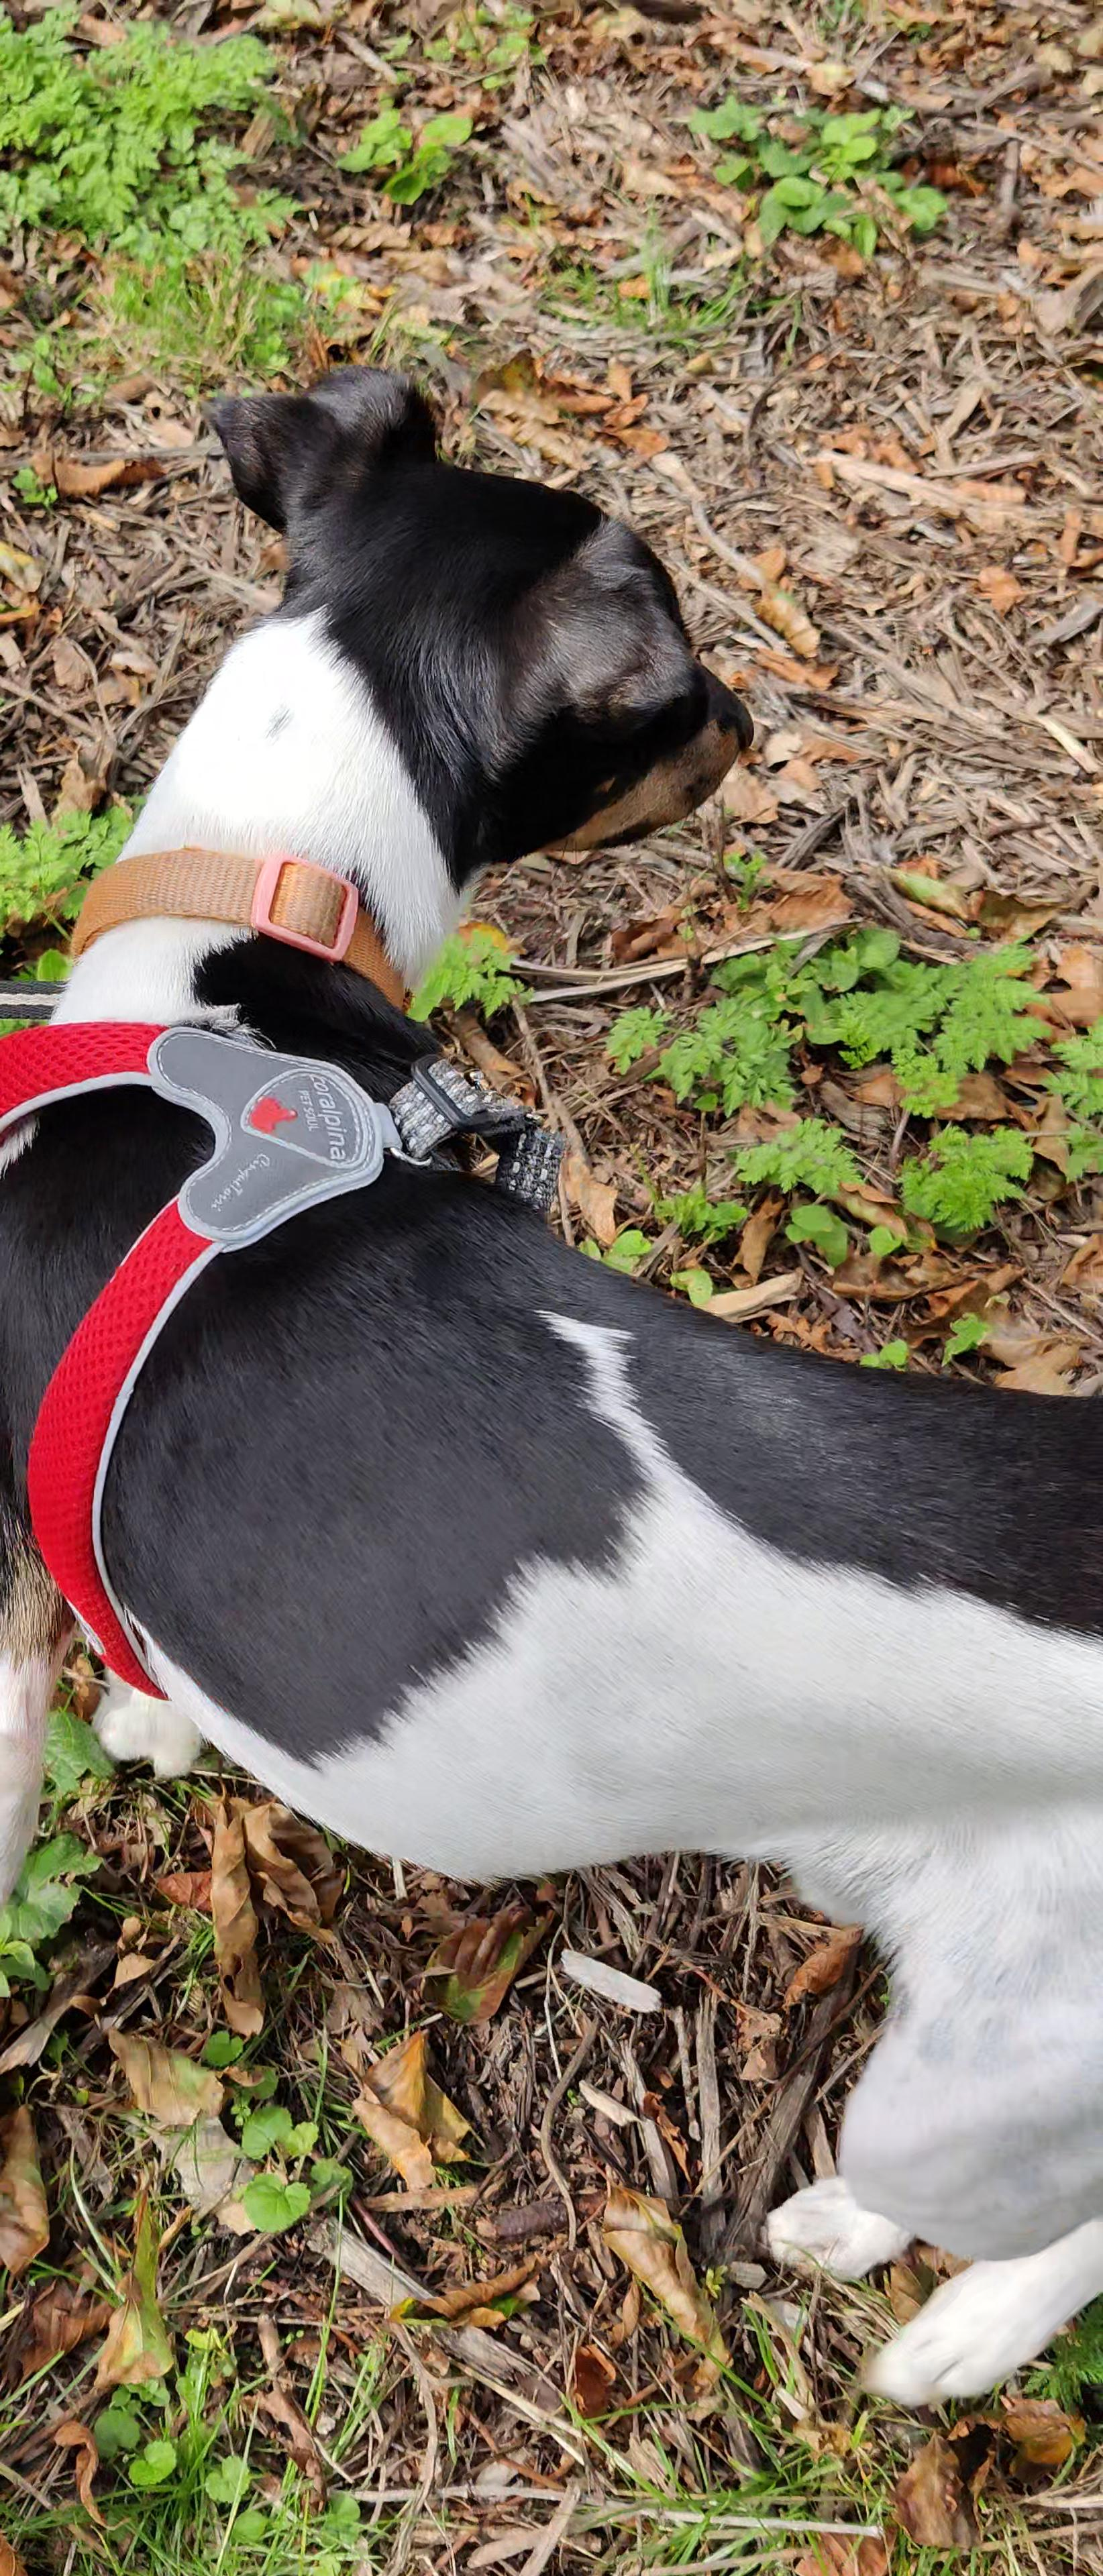Dog: (0, 310, 1103, 2441)
